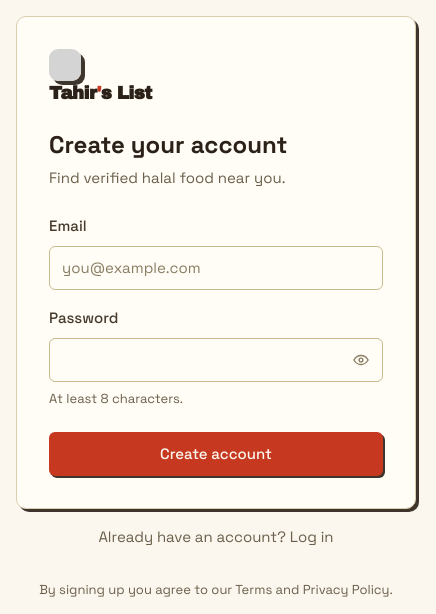
Test: SignUpPage — success + remaining error branches (#2) › falls back to the generic copy when the weak-password detail is empty (sc-39)
The image size is (436, 614).
Type "a@b.co" into the field labelled "Email" at (216, 268), box [49, 246, 383, 290]
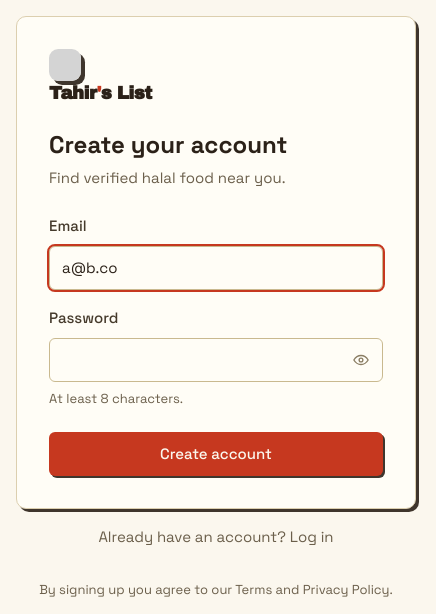
Type "password123" into the password field labelled "Password" at (216, 360), box [49, 338, 383, 382]
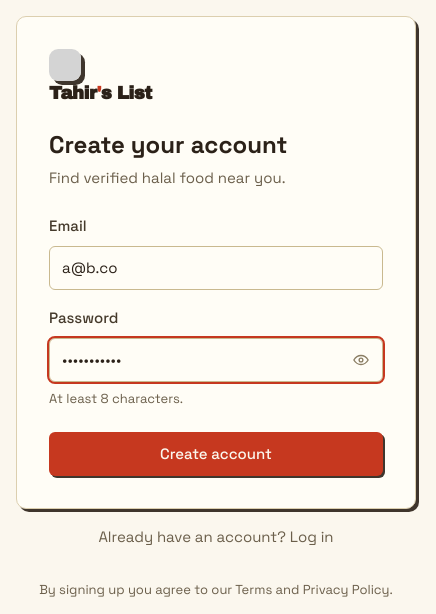
Click the button "Create account" at (216, 454), box [49, 432, 383, 476]
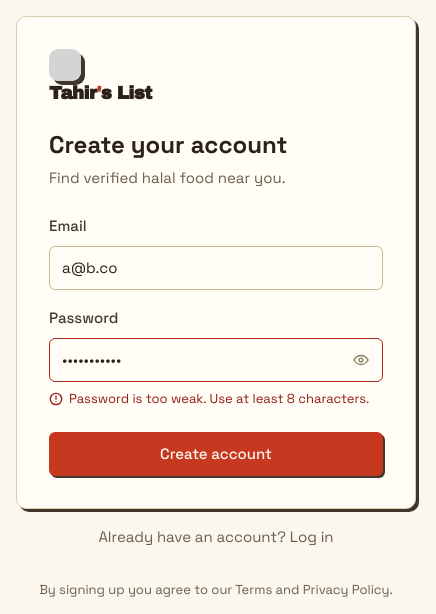
Result: the message reads "Password is too weak. Use at least 8 characters." at [69, 390, 369, 406]
